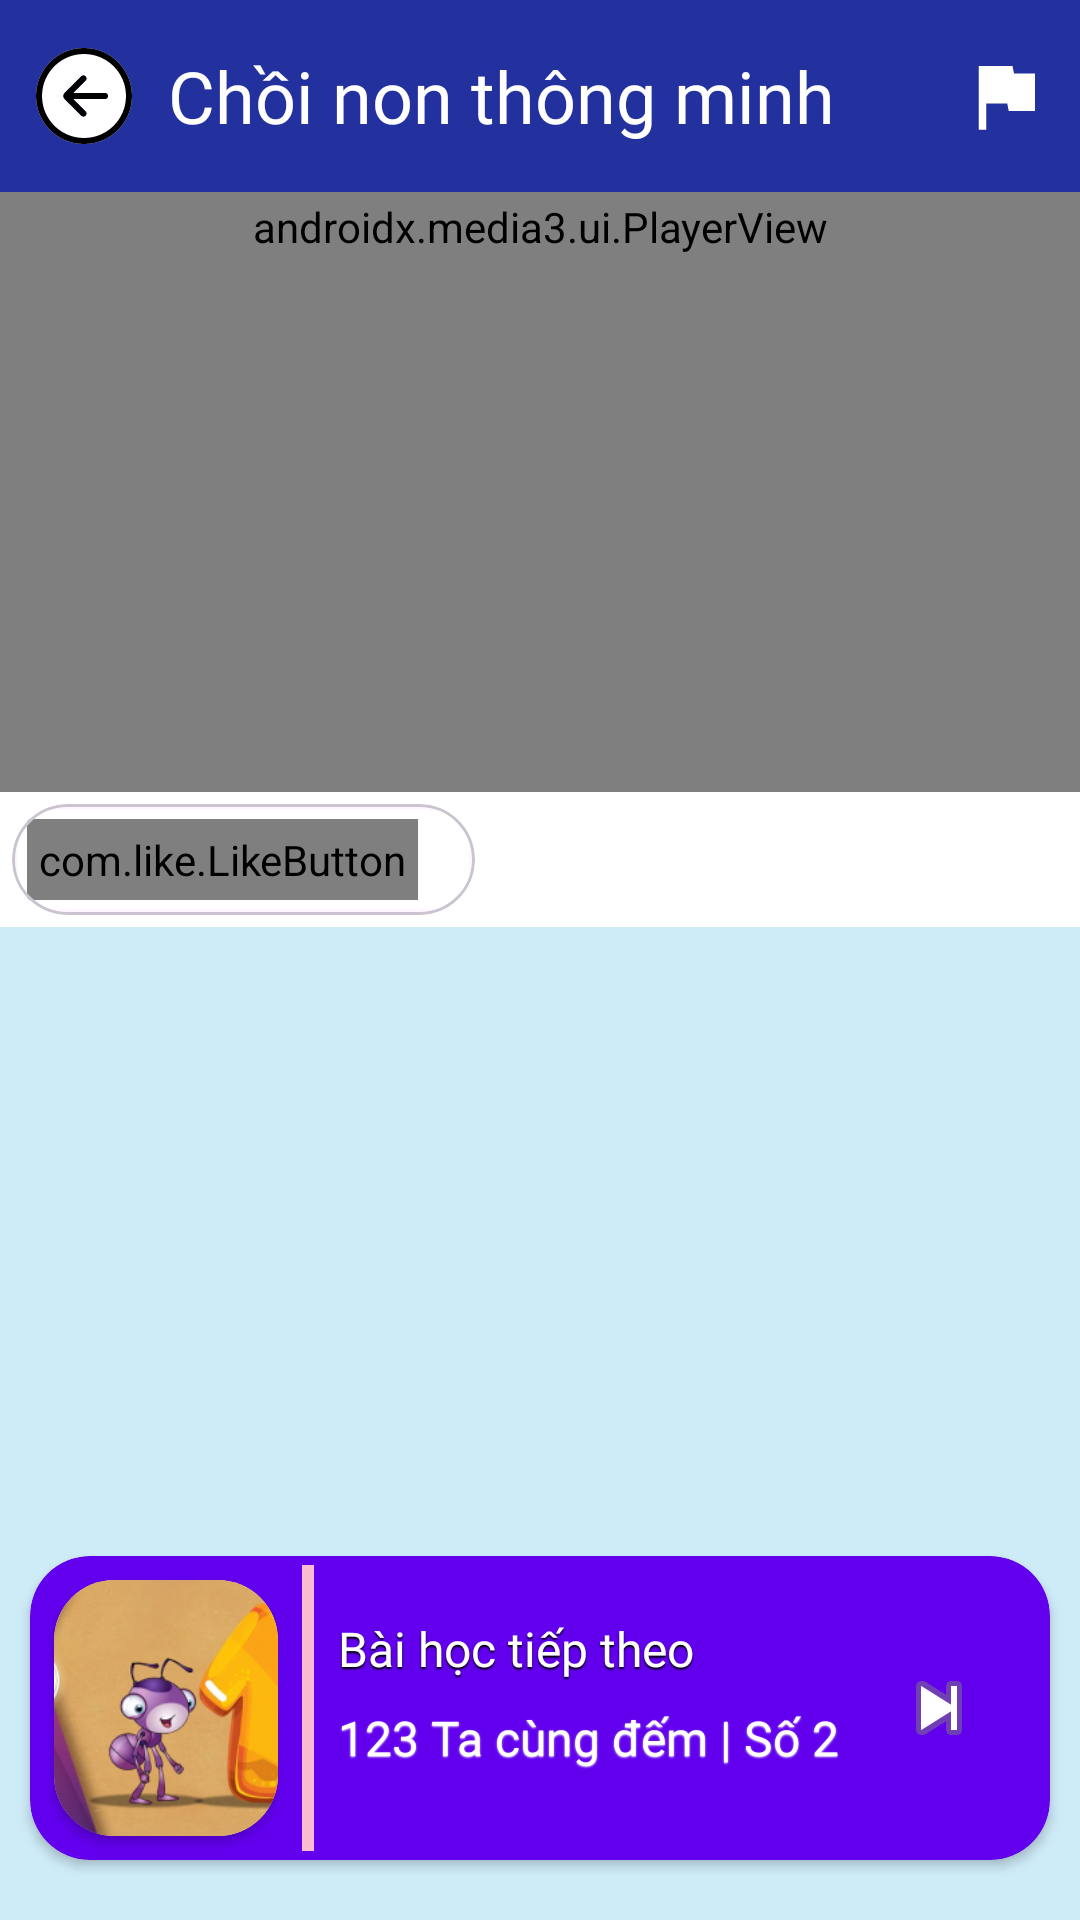

Named icons in this screenshot (1080x1920) and their bounding boxes, {"left": x1, "top": y1, "right": x2, "bottom": y2}:
flag: {"left": 978, "top": 66, "right": 1035, "bottom": 130}
next: {"left": 916, "top": 1681, "right": 962, "bottom": 1735}
sodem: {"left": 54, "top": 1580, "right": 278, "bottom": 1836}
